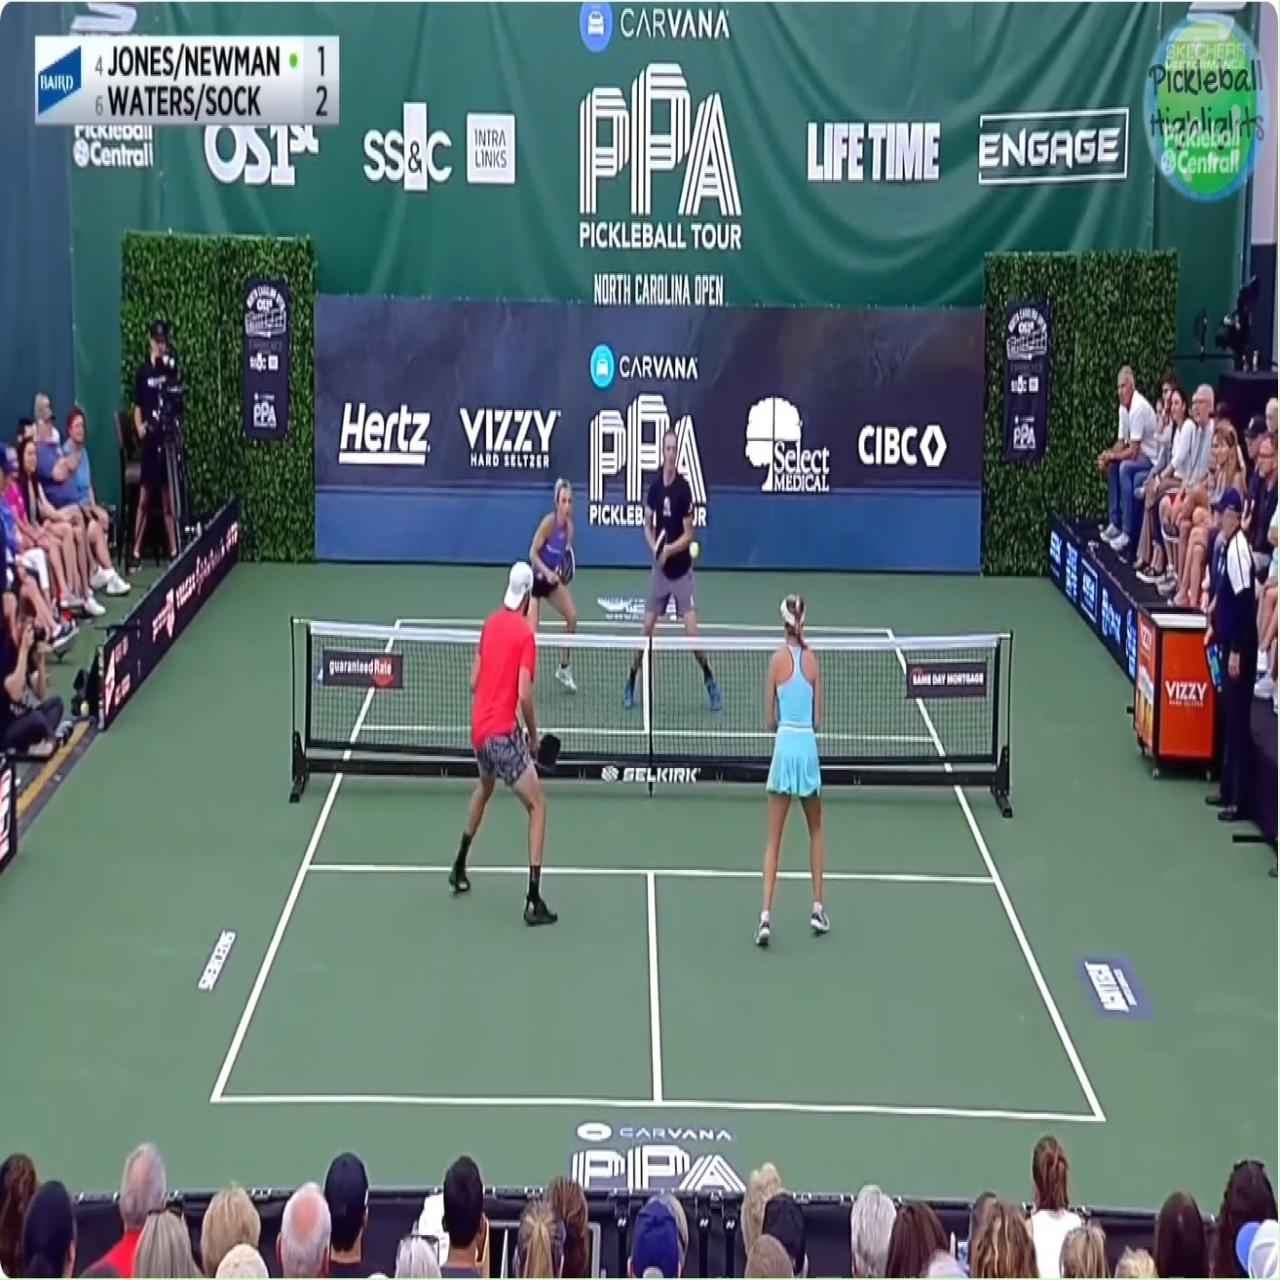pickleball: (689, 540, 700, 558)
